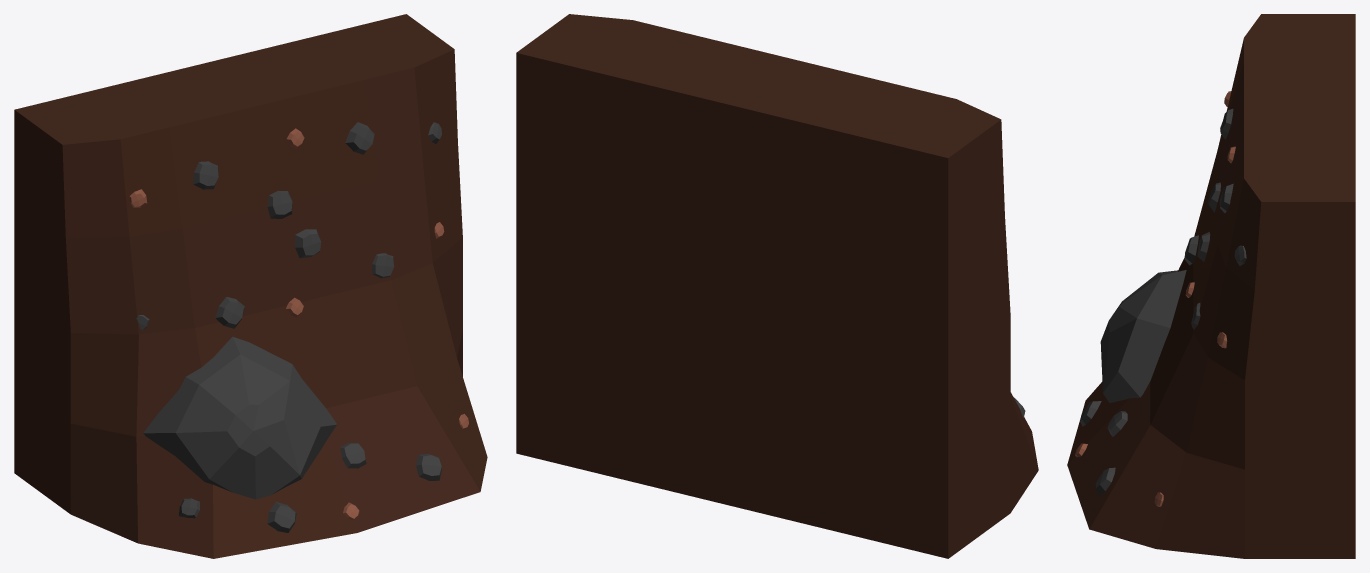
File: CaveInDoor.fbx
The picture shows the model from 3 angles, left to right: view 1: azimuth 30°, elevation 25°; view 2: azimuth 150°, elevation 25°; view 3: azimuth 270°, elevation 25°; orthographic projection. The views are drawn at different scales.
Visible parts, largest first — view 1: CaveIn; view 2: CaveIn; view 3: CaveIn.
Part boxes in pixels (x1,y1,x2,y2): CaveIn: [14, 14, 487, 558]; CaveIn: [516, 14, 1038, 558]; CaveIn: [1067, 14, 1355, 558].
Bounding box in the file's own units: 189 × 173 × 123.
